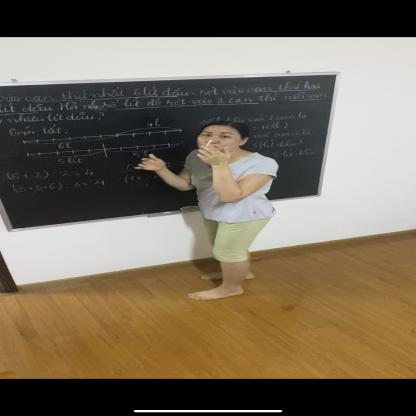cigarette: (206, 138, 214, 147)
person: (134, 120, 281, 299)
